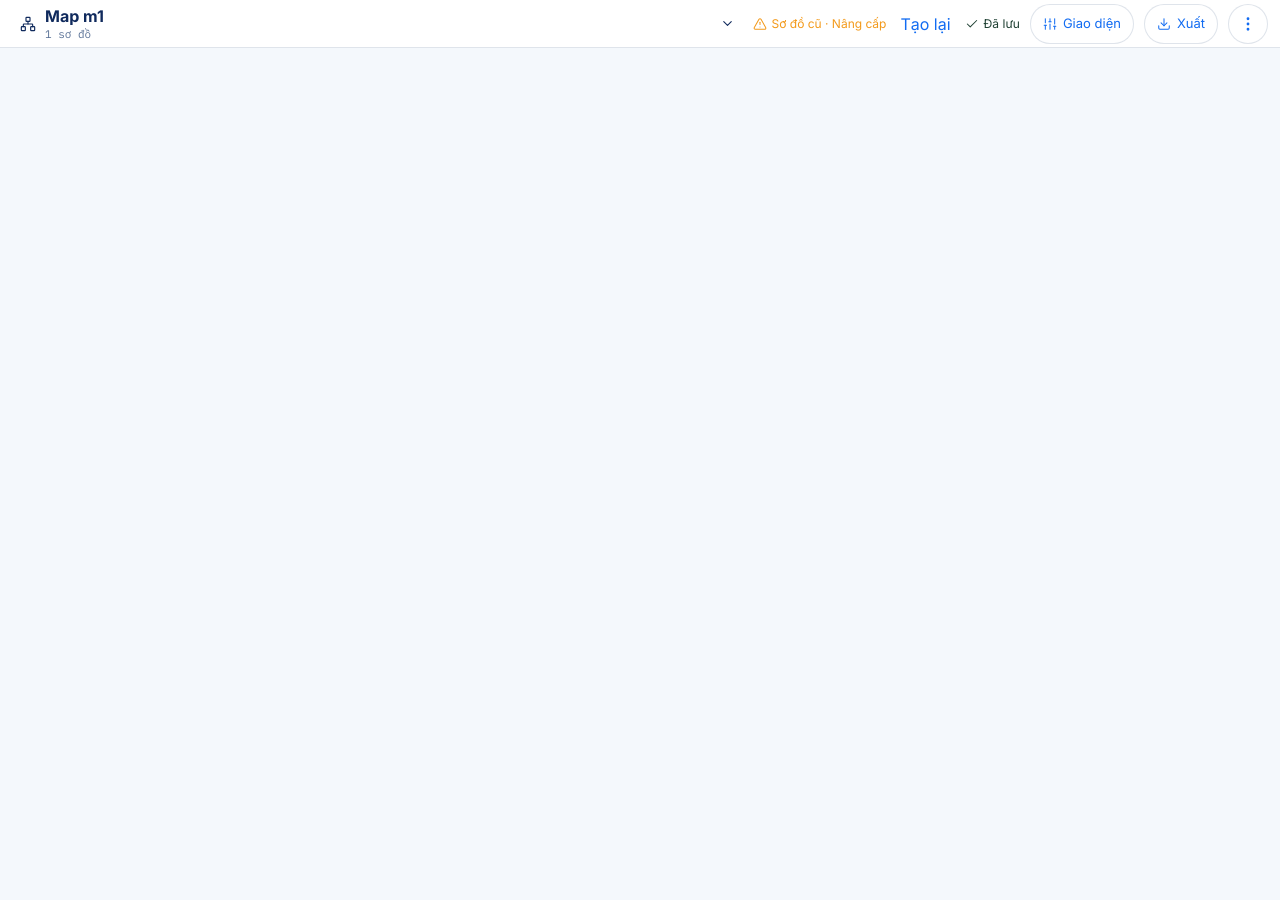
Export Studio — document formats › cancel during the local PDF capture never creates or downloads a backend job
Click the button with aria-label "Xuất sơ đồ": (1181, 24) [1144,4,1218,44]
(page scrolled)
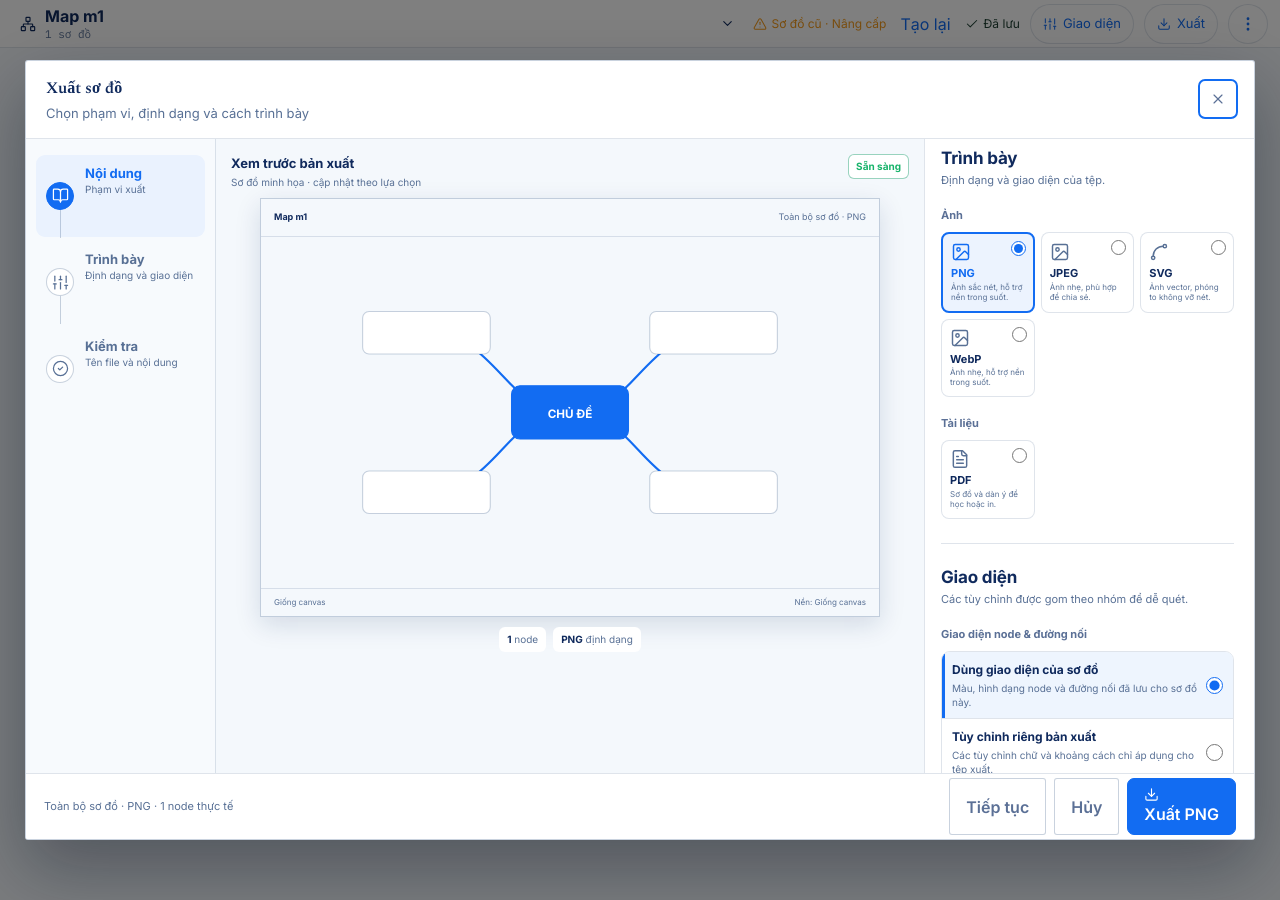
Click the radio button labelled "PDF Sơ đồ và dàn ý để học hoặc in.": (1019, 456) [1012,448,1027,463]
(page scrolled)
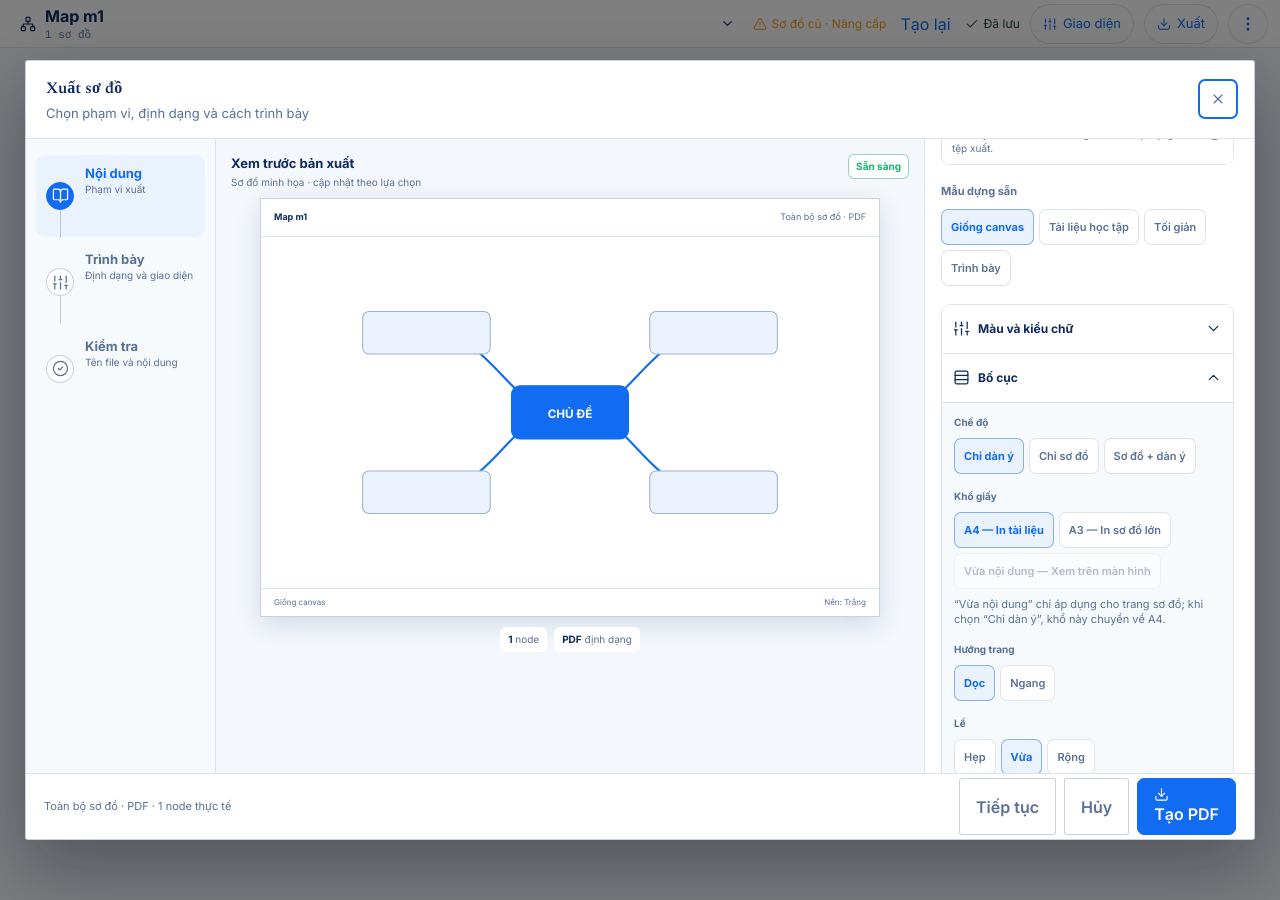
Click the button "Chỉ sơ đồ": (1064, 456) [1029,438,1098,474]
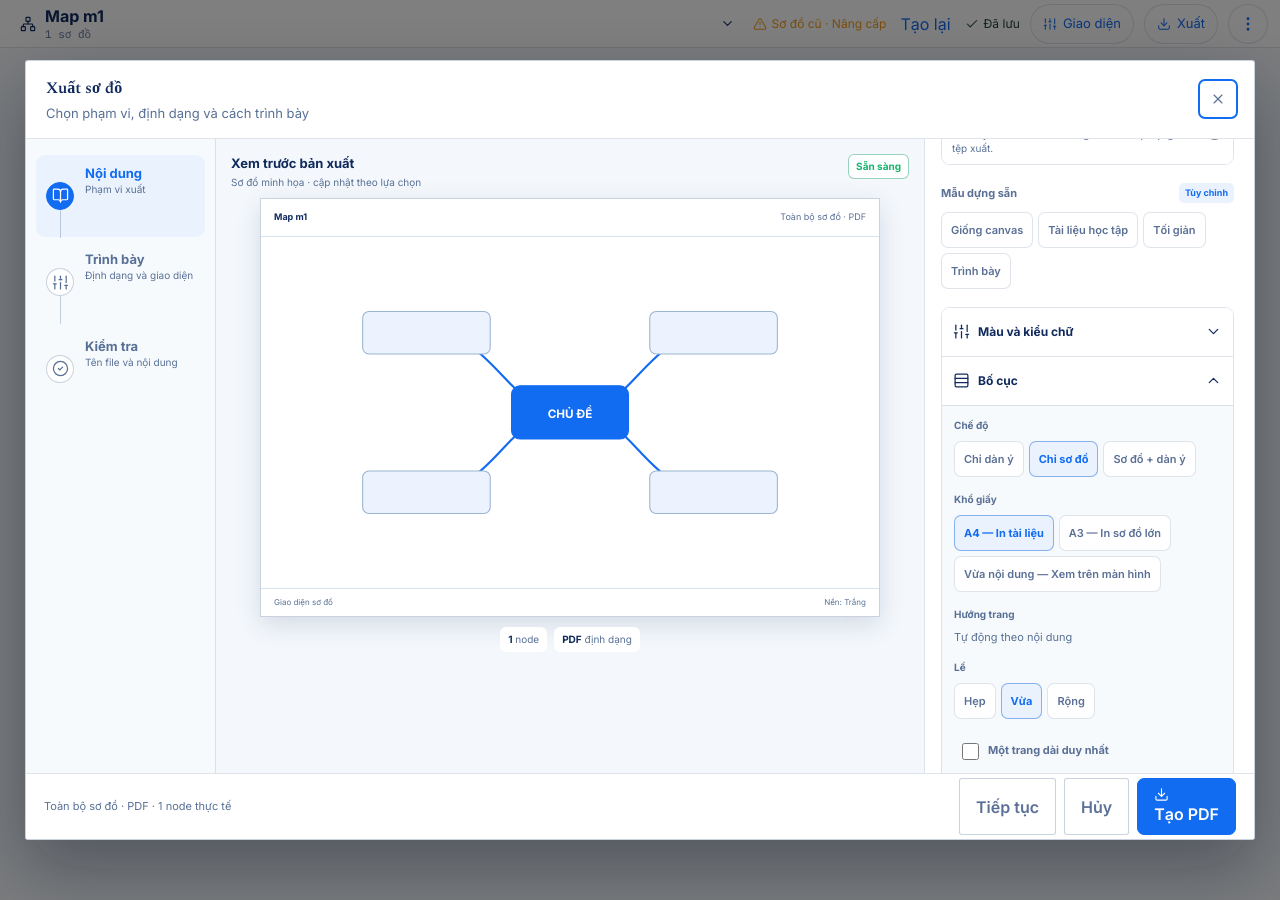
Click the button "Tạo PDF": (1187, 806) [1137,778,1236,835]
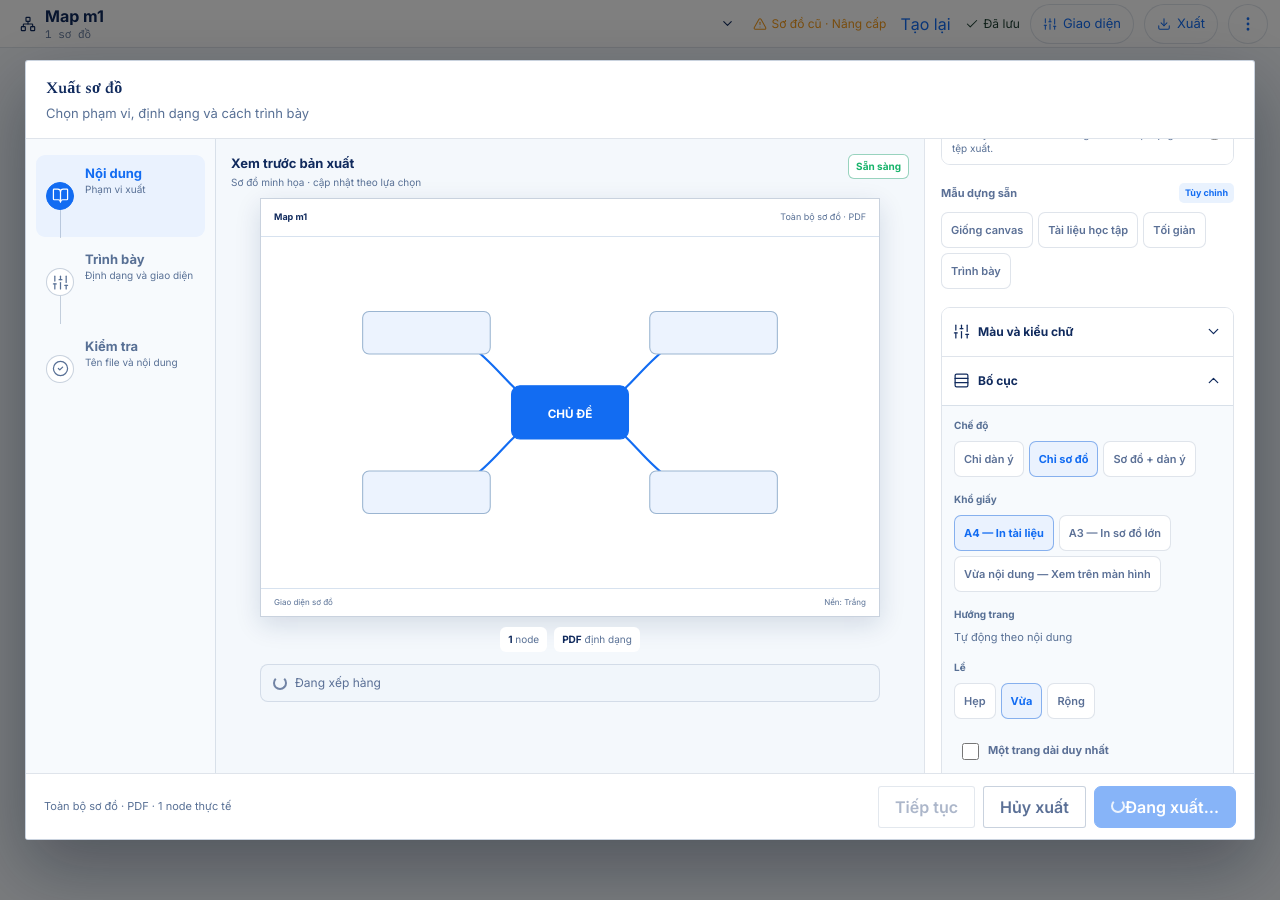
Expected: the button "Hủy xuất" is shown
Click the button "Hủy xuất": (1034, 806) [983,786,1086,828]
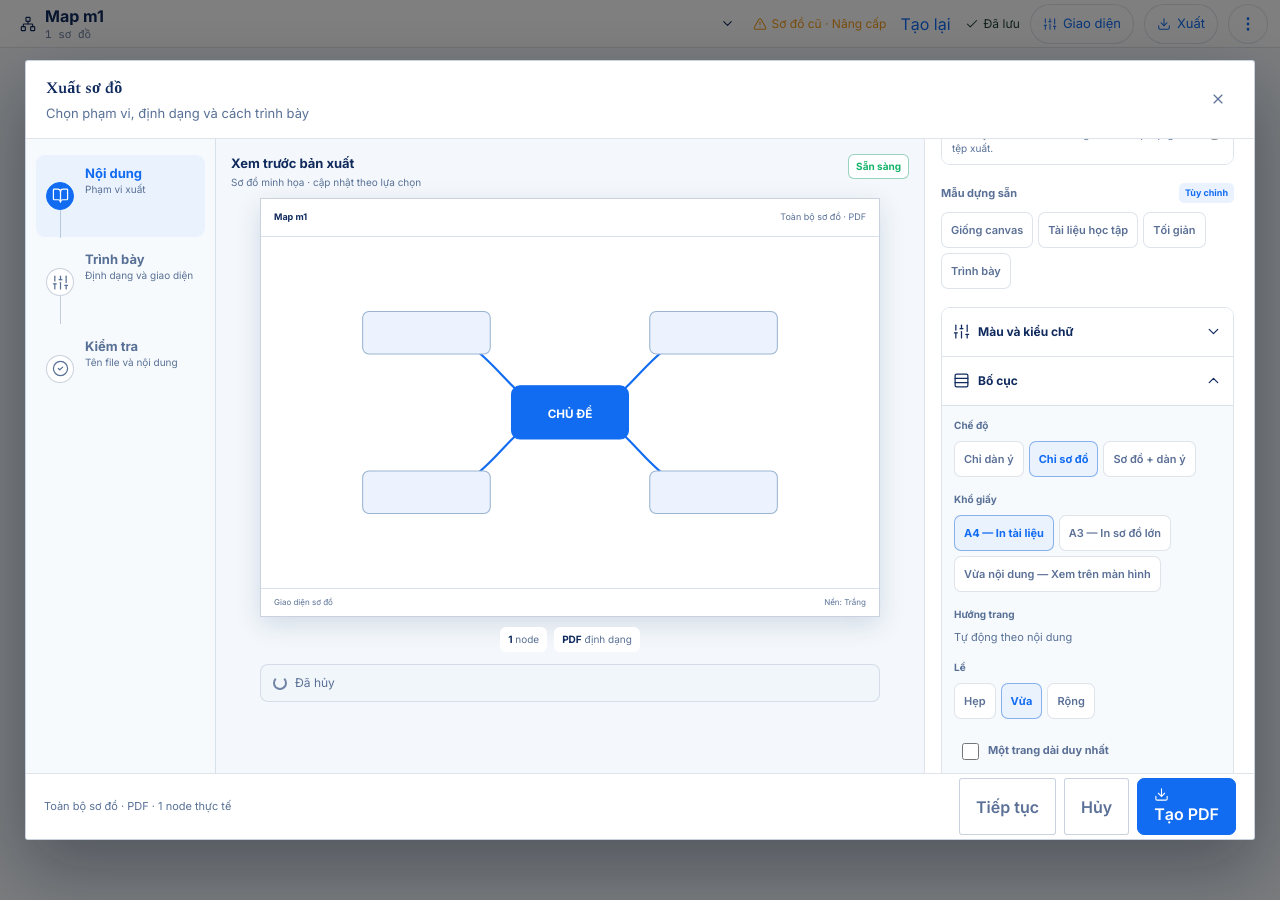
Expected: the dialog shows "Đã hủy", [295,675,335,690]
